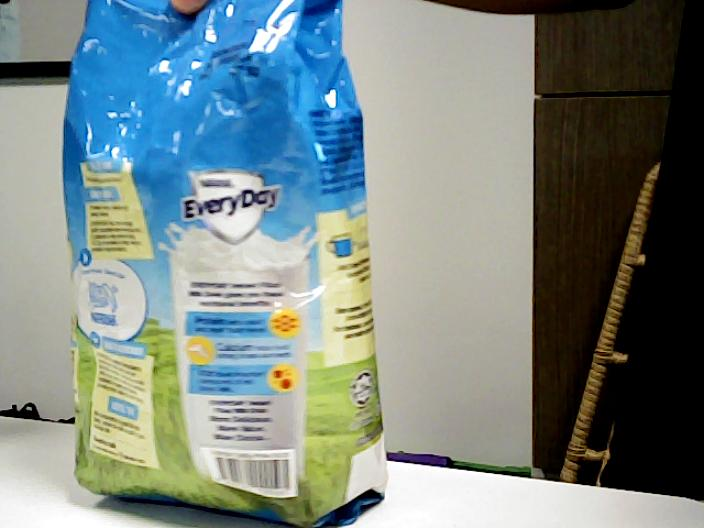Adult_Milk_600-699g_Halal_NonHealthy: (68, 1, 388, 526)
